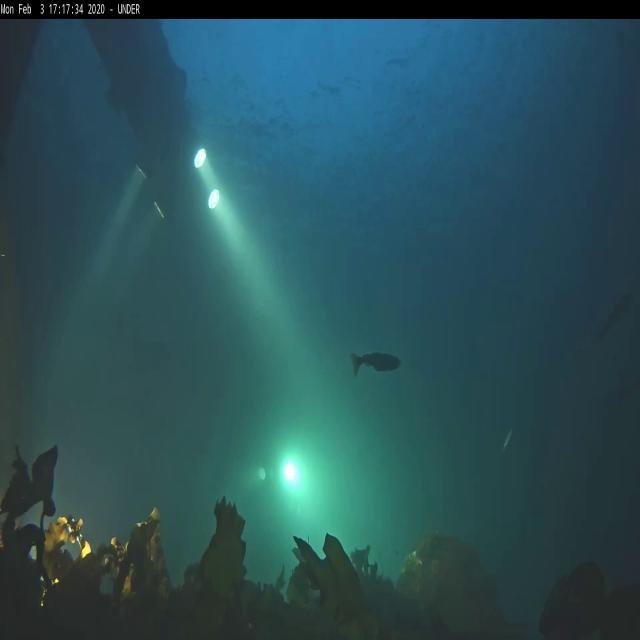fish: (350, 347, 400, 374), (504, 426, 514, 449)
